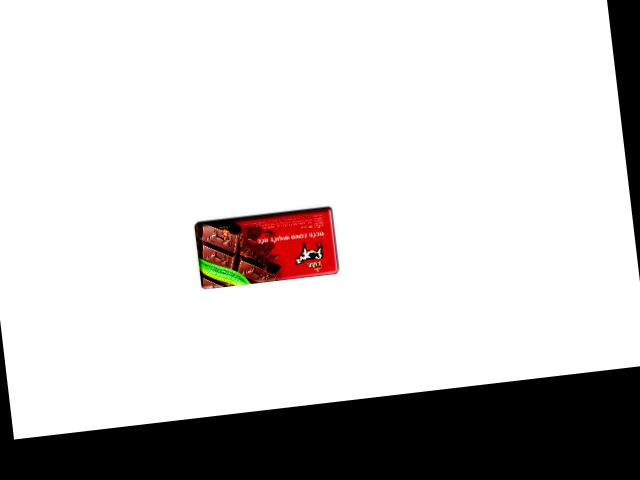chocolate: (193, 199, 343, 291)
